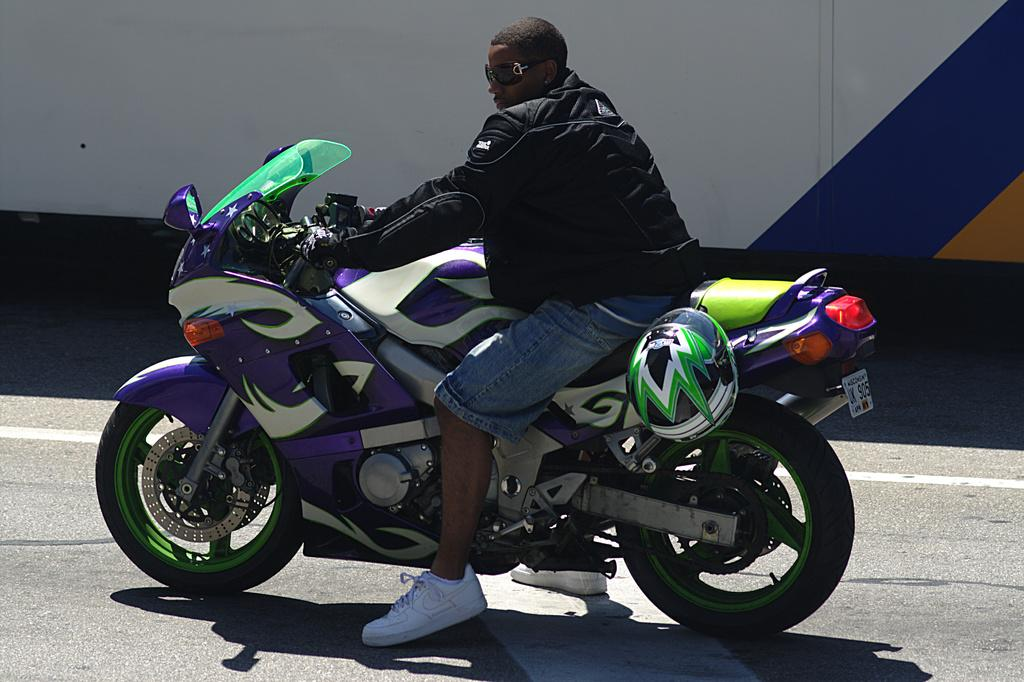helmet: (625, 307, 739, 444)
nohelmet: (484, 15, 569, 122)
